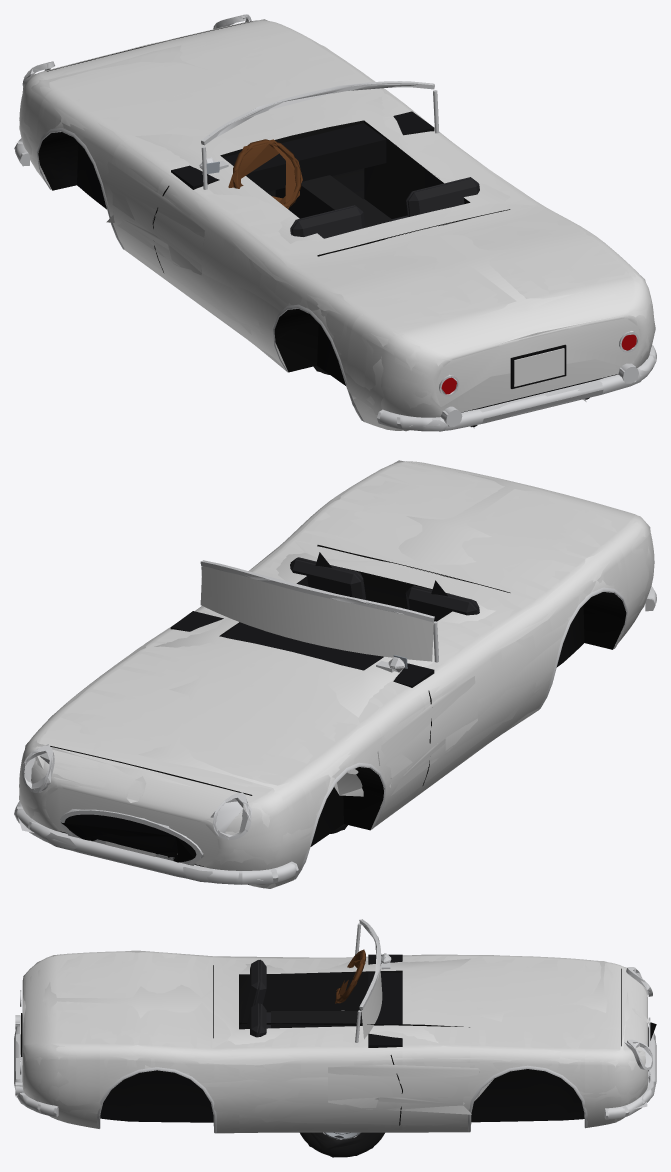
Rendered from comet.glb.
3 renders of one model, top to bottom at view 1: azimuth 30°, elevation 25°; view 2: azimuth 150°, elevation 25°; view 3: azimuth 270°, elevation 25°, orthographic. The views are drawn at different scales.
Parts seen in each view (by area): view 1: L0_paint, L1_paint, L2_paint, L1_details, L0_details, L1_paint2, L0_paint2, L2_details; view 2: L0_paint, L1_paint, L2_paint, L1_details, L0_details, L0_glass, L1_paint2, L2_details, L0_paint2; view 3: L0_paint, L1_paint, L2_paint, L1_details, L0_details, L0_paint2, L1_paint2, L2_details, L0_wheel, L0_glass, L1_wheel, L2_wheel (+1 smaller).
Boxes of the visible parts, x1,y1,x2,y2 form: L0_paint: (19, 20, 654, 430); L1_paint: (19, 20, 654, 430); L2_paint: (19, 19, 655, 431); L1_details: (14, 15, 656, 431); L0_details: (15, 14, 656, 431); L1_paint2: (104, 161, 204, 275); L0_paint2: (102, 160, 205, 274); L2_details: (24, 14, 636, 426); L0_paint: (19, 461, 654, 888); L1_paint: (19, 461, 654, 888); L2_paint: (19, 460, 652, 888); L1_details: (14, 545, 656, 884); L0_details: (14, 546, 656, 884); L0_glass: (200, 566, 433, 661); L1_paint2: (337, 676, 477, 795); L2_details: (15, 552, 447, 880); L0_paint2: (334, 676, 477, 797); L0_paint: (22, 951, 647, 1133); L1_paint: (22, 951, 647, 1133); L2_paint: (22, 950, 647, 1133); L1_details: (14, 919, 656, 1128); L0_details: (14, 919, 656, 1132); L0_paint2: (328, 1065, 493, 1110); L1_paint2: (328, 1064, 480, 1110); L2_details: (16, 950, 656, 1110); L0_wheel: (300, 1132, 384, 1157); L0_glass: (361, 969, 382, 1039); L1_wheel: (302, 1132, 384, 1156); L2_wheel: (307, 1132, 384, 1157).
Size of the model in its own units: 1.8 by 1.53 by 4.49.
